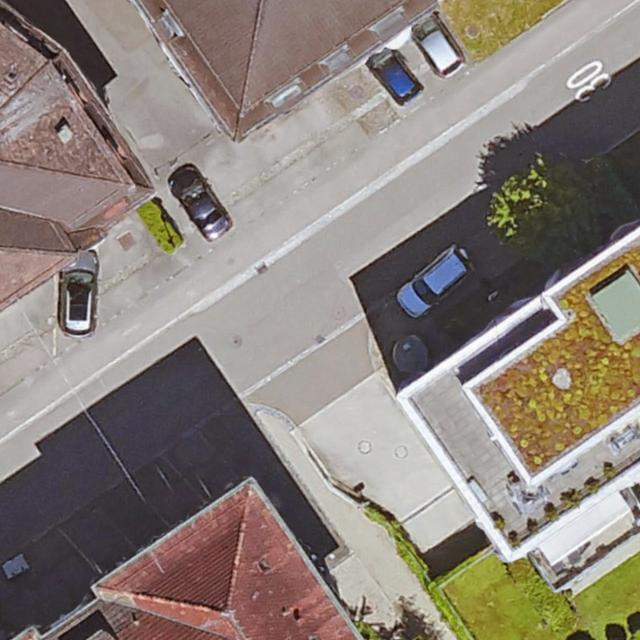tree: (486, 153, 607, 254), (357, 621, 386, 640), (631, 629, 640, 640)
